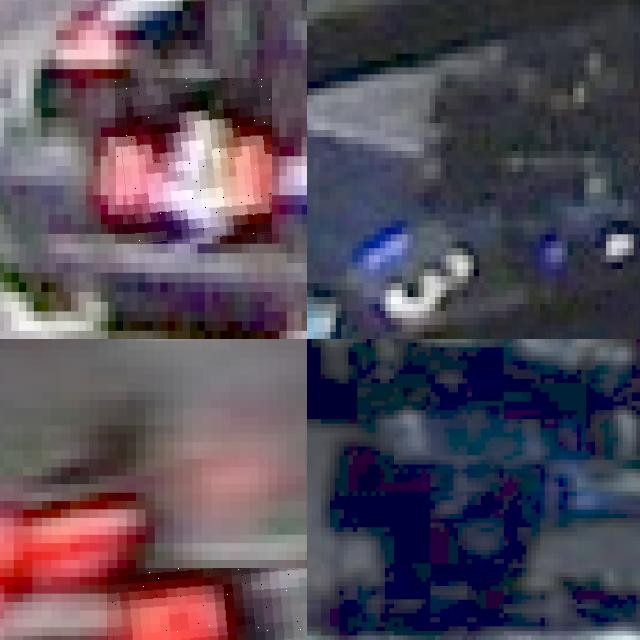B3: (347, 200, 485, 332)
R1: (107, 568, 307, 640)
R4: (115, 78, 272, 244)
